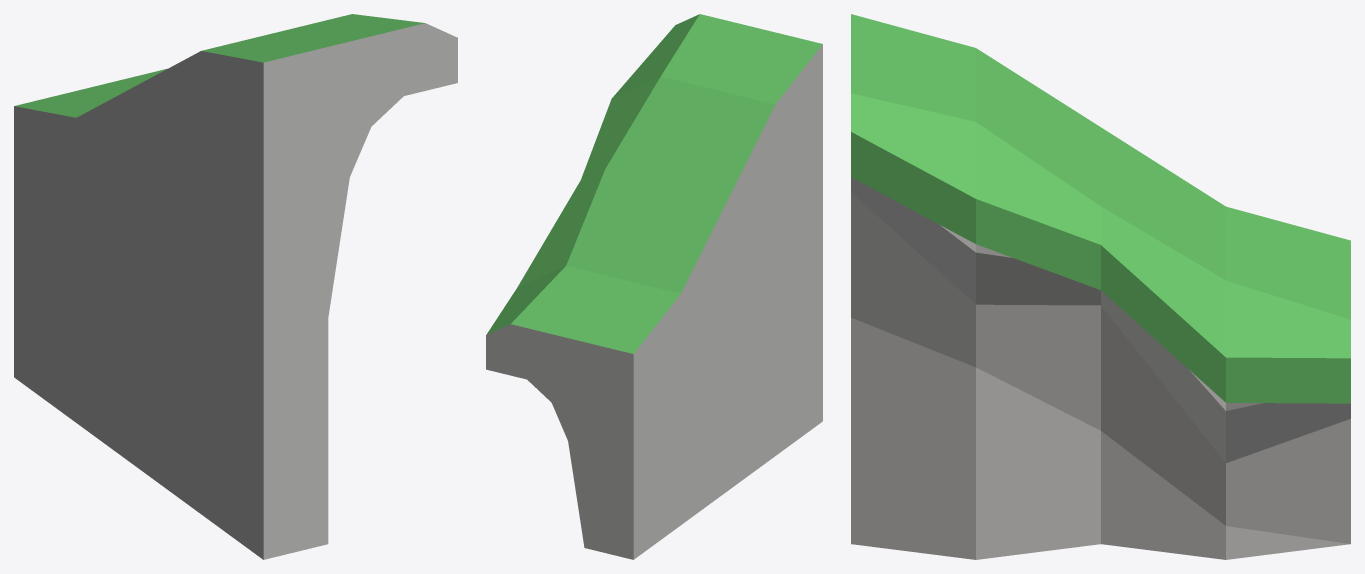
The model's file is Cliff_Top_Hill_Sharp.glb.
3 renders of one model, left to right at view 1: azimuth 30°, elevation 25°; view 2: azimuth 150°, elevation 25°; view 3: azimuth 270°, elevation 25°, orthographic. The views are drawn at different scales.
Parts seen in each view (by area): view 1: object1; view 2: object1; view 3: object1.
Part boxes in pixels (<box>): object1: <box>14,14,457,559</box>; object1: <box>486,14,822,559</box>; object1: <box>851,14,1350,559</box>.
Size of the model in its own units: 1 by 2.2 by 2.
